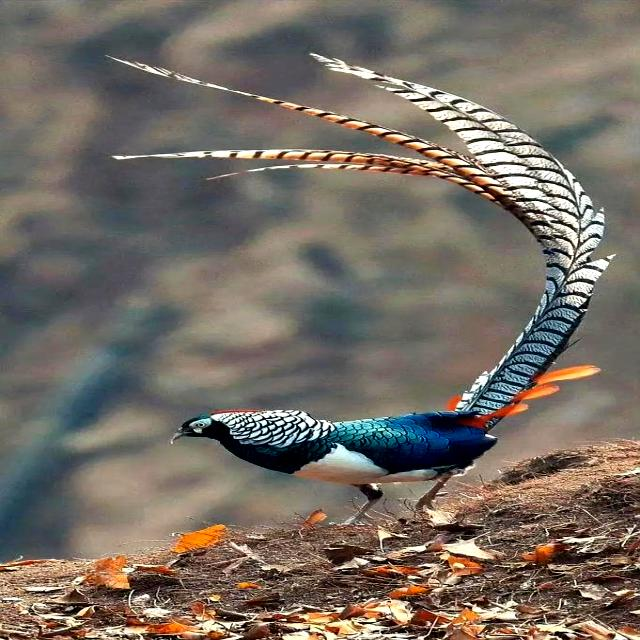Chrysolophus amherstiae: (111, 53, 611, 413)
